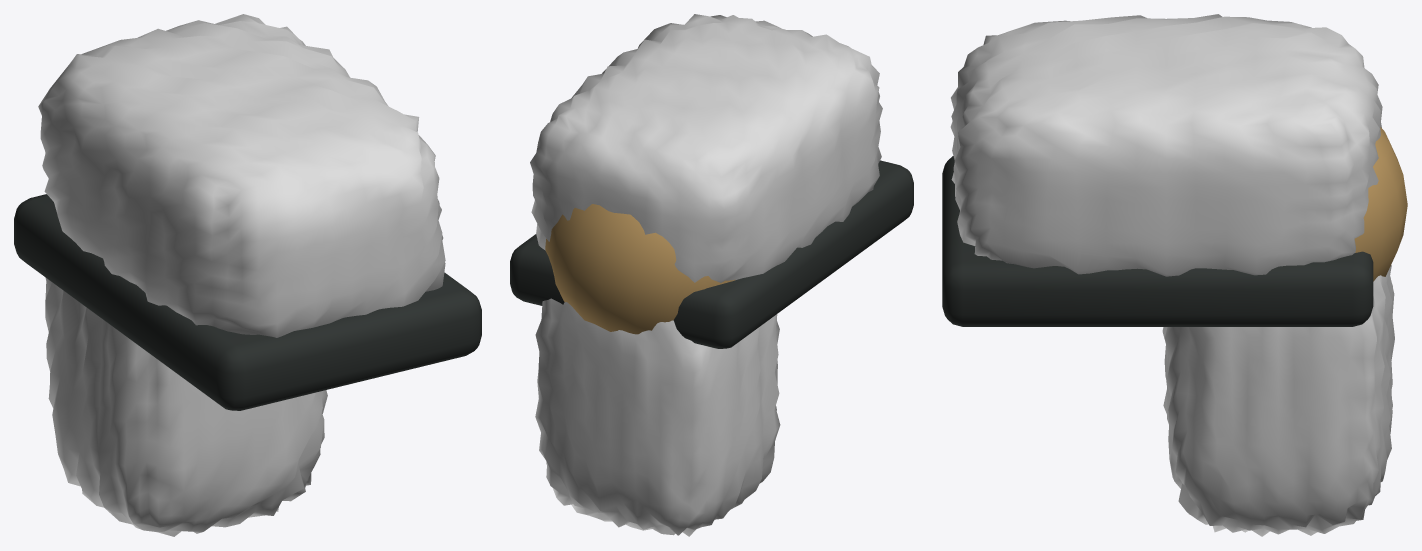
Rendered from hotshot-leg-0.glb.
3 views of the same model, side by side, from view 1: azimuth 30°, elevation 25°; view 2: azimuth 150°, elevation 25°; view 3: azimuth 270°, elevation 25° (orthographic). The views are drawn at different scales.
Parts seen in each view (by area): view 1: foot_clay, upper_clay, foot_rubber; view 2: foot_clay, upper_clay, foot_rubber, upper_brass; view 3: foot_clay, upper_clay, foot_rubber, upper_brass.
Part boxes in pixels (left/top/right/bottom): foot_clay: left=38, top=14, right=445, bottom=337; upper_clay: left=45, top=277, right=327, bottom=536; foot_rubber: left=14, top=194, right=481, bottom=410; foot_clay: left=530, top=14, right=882, bottom=282; upper_clay: left=535, top=298, right=780, bottom=536; foot_rubber: left=510, top=160, right=913, bottom=348; upper_brass: left=545, top=204, right=734, bottom=334; foot_clay: left=950, top=14, right=1382, bottom=276; upper_clay: left=1162, top=265, right=1394, bottom=536; foot_rubber: left=942, top=156, right=1373, bottom=326; upper_brass: left=1354, top=127, right=1407, bottom=281.
Bounding box in the file's own units: 0.3508 × 0.5879 × 0.54.
